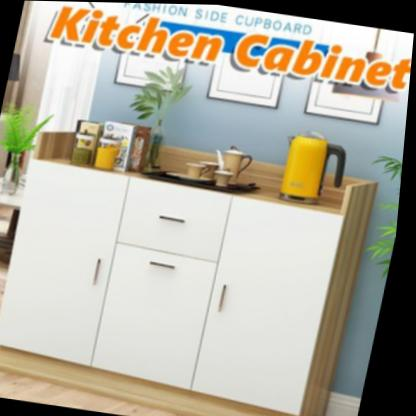Cabinet: (0, 156, 378, 416)
